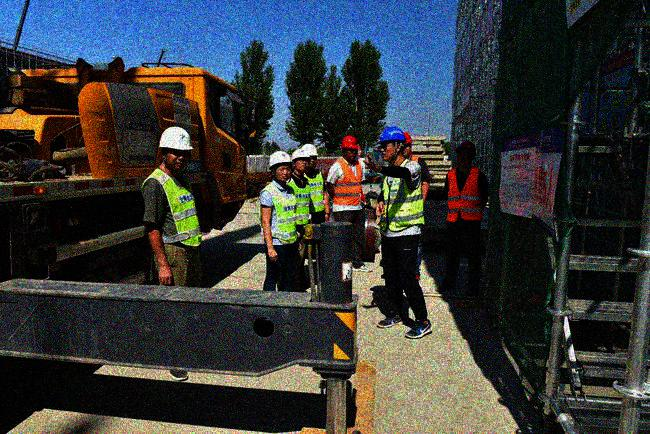helmet: (157, 124, 195, 170), (265, 148, 294, 184), (376, 125, 403, 161), (455, 140, 477, 168), (300, 141, 321, 166), (341, 136, 361, 160), (291, 148, 310, 173), (399, 129, 412, 159)
